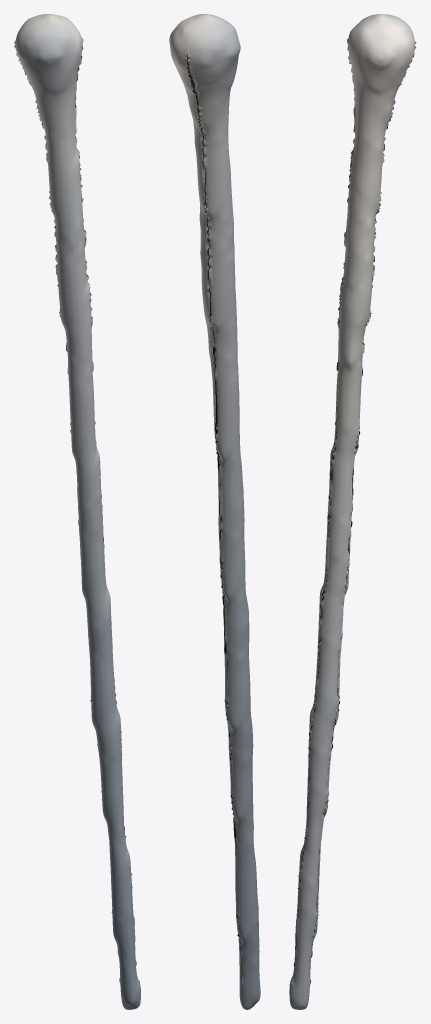
Rendered from kfl-2235.glb.
3 views of the same model, side by side, from view 1: azimuth 90°, elevation 25°; view 2: azimuth 150°, elevation 25°; view 3: azimuth 270°, elevation 25° (orthographic). The views are drawn at different scales.
Parts seen in each view (by area): view 1: kfl-2235; view 2: kfl-2235; view 3: kfl-2235.
Part boxes in pixels (left/top/right/bottom): kfl-2235: left=14, top=14, right=140, bottom=1009; kfl-2235: left=169, top=14, right=260, bottom=1009; kfl-2235: left=289, top=14, right=415, bottom=1009.
Bounding box in the file's own units: 0.0658 × 0.9882 × 0.1145.
1 material, 1 textured.
